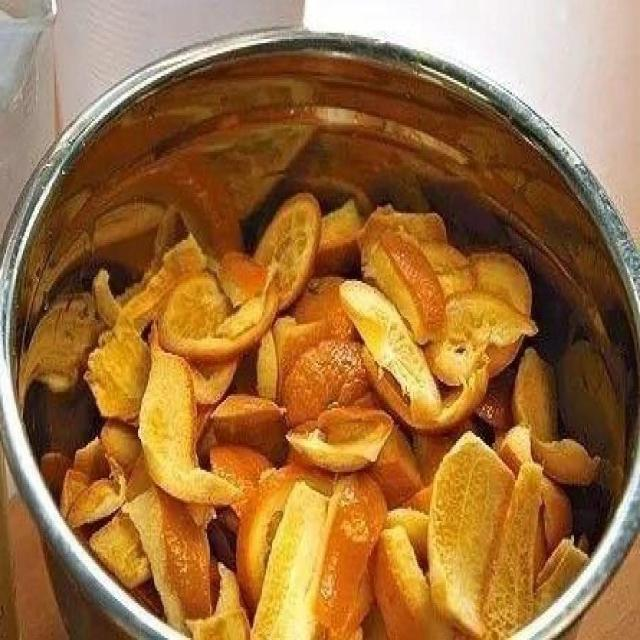Wet: (62, 190, 602, 639)
